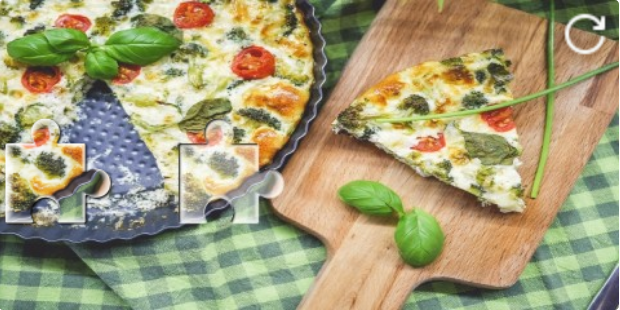target: (179, 121, 282, 225)
